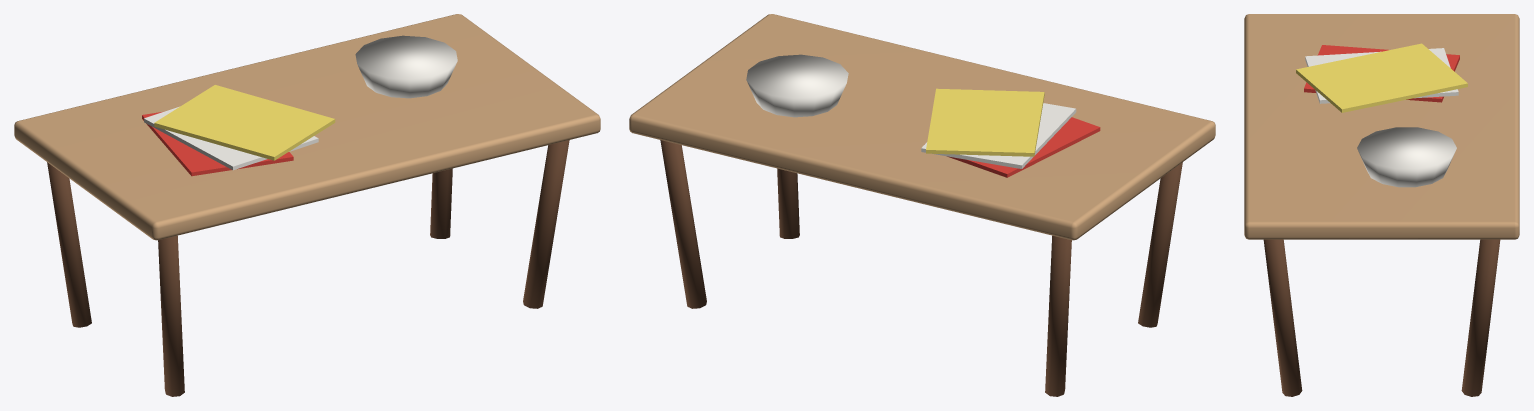
File: CoffeeTable.fbx
The picture shows the model from 3 angles, left to right: view 1: azimuth 30°, elevation 25°; view 2: azimuth 150°, elevation 25°; view 3: azimuth 270°, elevation 25°; orthographic projection. The views are drawn at different scales.
Visible parts, largest first — view 1: CoffeeTableBody; view 2: CoffeeTableBody; view 3: CoffeeTableBody.
Boxes of the visible parts, bbox=[...] form: CoffeeTableBody: bbox=[14, 14, 600, 396]; CoffeeTableBody: bbox=[629, 14, 1215, 396]; CoffeeTableBody: bbox=[1244, 14, 1519, 396].
Size of the model in its own units: 1 by 0.4708 by 0.55.
